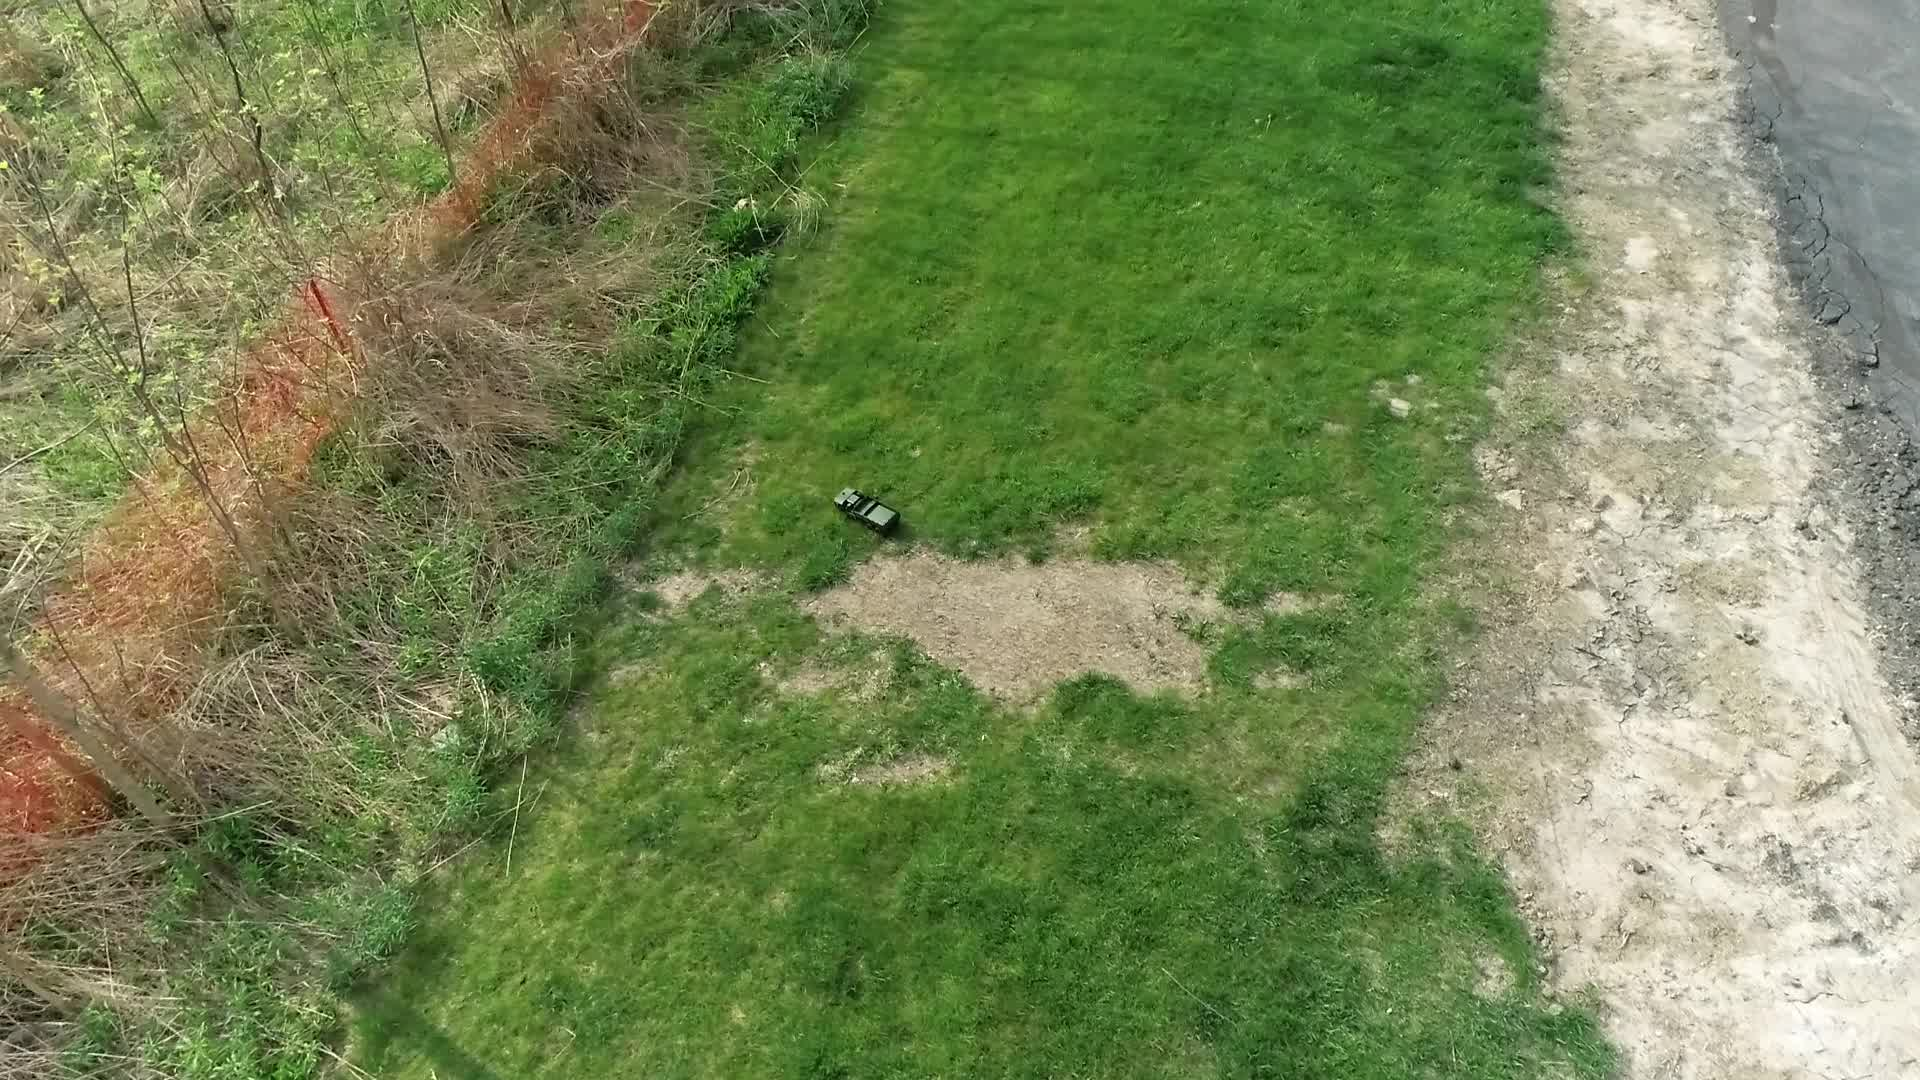transporter9: (831, 485, 902, 535)
